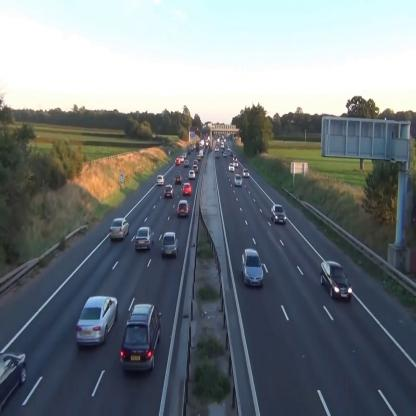car: (120, 304, 162, 373), (76, 296, 118, 344), (320, 260, 352, 302), (242, 248, 264, 289), (162, 232, 179, 258), (109, 218, 130, 239), (135, 227, 154, 250), (271, 204, 286, 225), (178, 200, 190, 218), (164, 186, 174, 198), (183, 183, 191, 195), (234, 174, 242, 186), (156, 175, 164, 186), (175, 174, 182, 185), (189, 170, 195, 180), (242, 169, 249, 177), (228, 163, 234, 172)
